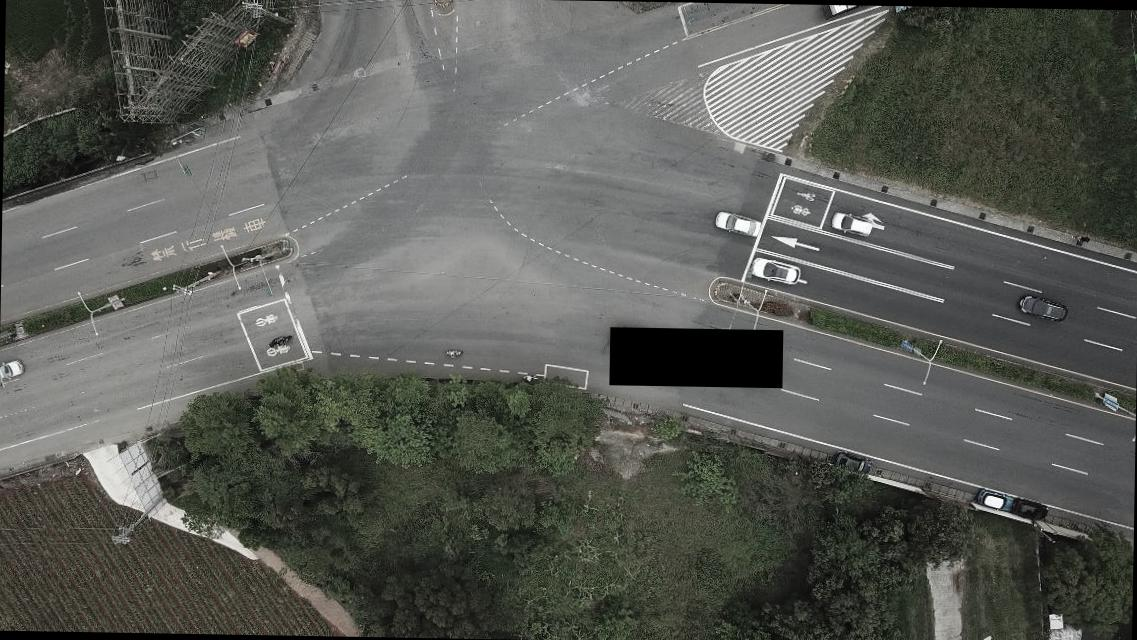vehicle: (752, 257, 800, 288), (1020, 295, 1070, 324), (716, 210, 760, 238), (830, 212, 876, 238), (1014, 498, 1050, 526), (978, 488, 1013, 513), (836, 452, 872, 476), (0, 358, 26, 385)
